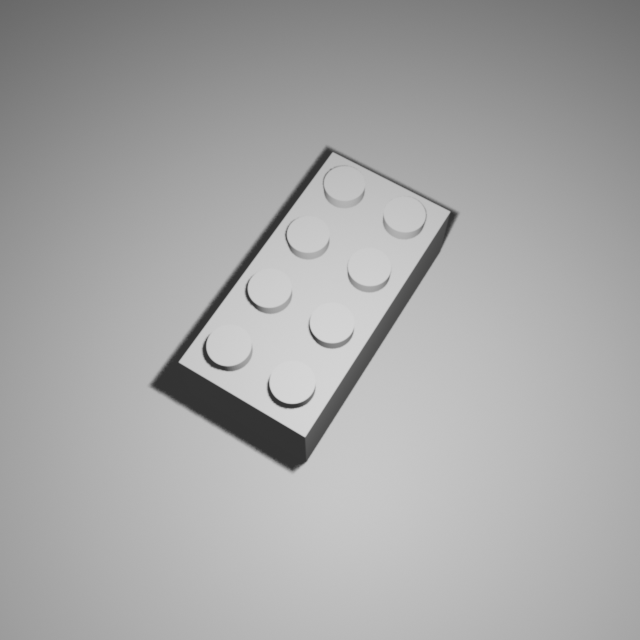lego_2x4: (177, 144, 452, 463)
